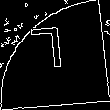L_S: (35, 28, 75, 82)
